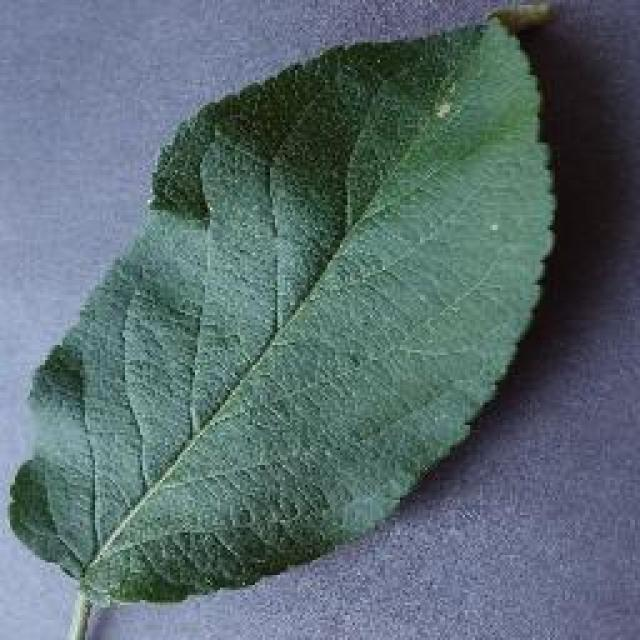apple healthy: (5, 0, 563, 638)
